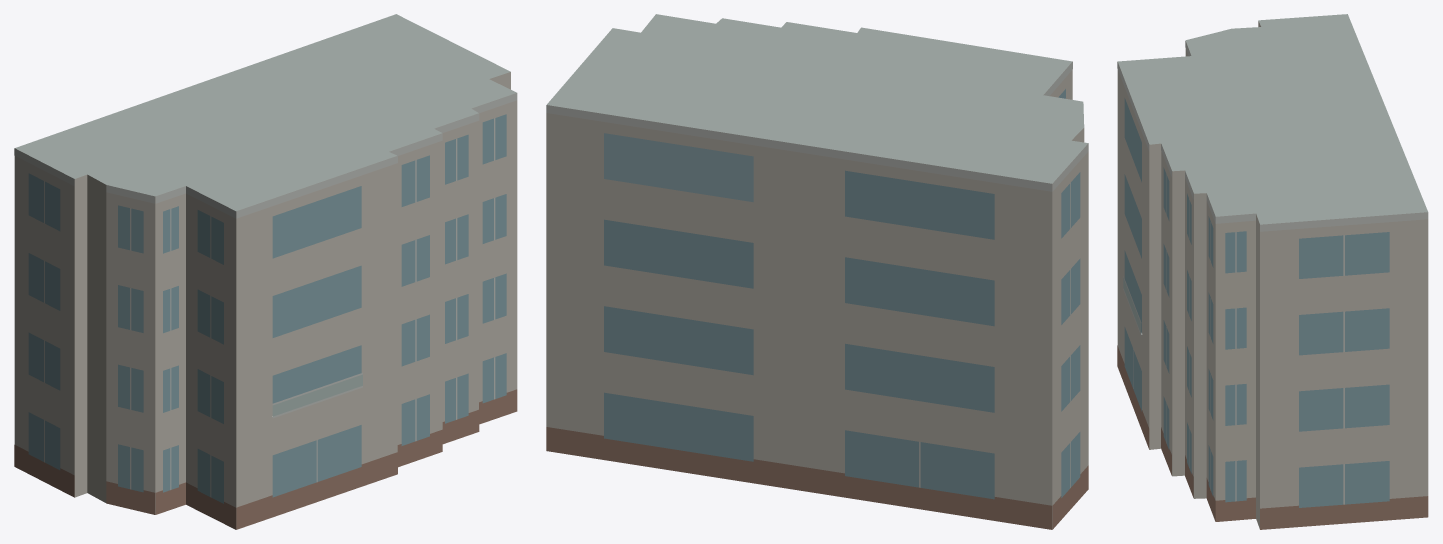
The model's file is survey-upis-32911985.glb.
3 renders of one model, left to right at view 1: azimuth 30°, elevation 25°; view 2: azimuth 150°, elevation 25°; view 3: azimuth 270°, elevation 25°, orthographic. The views are drawn at different scales.
Parts seen in each view (by area): view 1: survey-upis-32911985.tmp; view 2: survey-upis-32911985.tmp; view 3: survey-upis-32911985.tmp.
Boxes of the visible parts, <box> form: survey-upis-32911985.tmp: <box>14,14,517,529</box>; survey-upis-32911985.tmp: <box>546,14,1088,529</box>; survey-upis-32911985.tmp: <box>1117,14,1428,529</box>.
Bounding box in the file's own units: 15.55 × 10.5 × 9.7.
